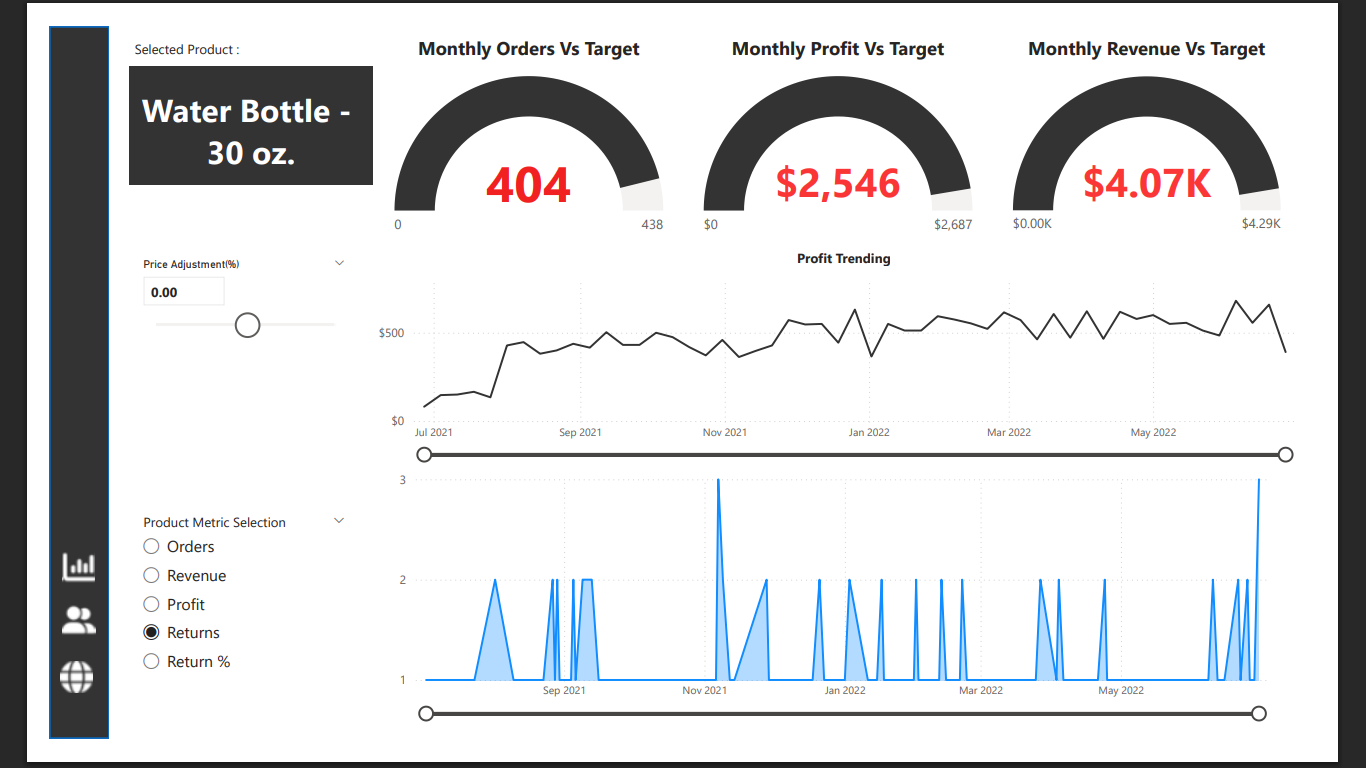

The page's visual inventory and layout, read from the dashboard file:
{"tool":"powerbi","page":{"name":"Product Detail","canvas":[1280,720],"ordinal":2},"visuals":[{"type":"shape","box":[0,0,60.5,720],"z":0},{"type":"gauge","title":"Monthly Orders Vs Target","fields":{"Y":["Measure Table.Total Orders"],"MaxValue":["Measure Table.Order Target"]},"box":[344.3,8.6,281.4,220],"z":1000},{"type":"gauge","title":"Monthly Profit Vs Target","fields":{"Y":["Measure Table.Total Profit"],"MaxValue":["Measure Table.Profit Target"]},"box":[657.1,8.6,281.4,220],"z":2000},{"type":"gauge","title":"Monthly Revenue Vs Target","fields":{"Y":["Measure Table.Total Revenue"],"MaxValue":["Measure Table.Revenue Target"]},"box":[970,8.6,281.4,220],"z":3000},{"type":"lineChart","title":"Profit Trending","fields":{"Category":["Calendar Lookup.Date hierarchy.Start of Year","Calendar Lookup.Date hierarchy.Start of Month","Calendar Lookup.Date hierarchy.Start of Week","Calendar Lookup.Date hierarchy.Date"],"Y":["Measure Table.Total Profit"]},"box":[328.3,224.6,951.8,218.9],"z":4000},{"type":"areaChart","title":"Revenue Trending","fields":{"Y":["Measure Table.Total Returns"],"Category":["Calendar Lookup.Date hierarchy.Start of Year","Calendar Lookup.Date hierarchy.Start of Month","Calendar Lookup.Date hierarchy.Start of Week","Calendar Lookup.Date hierarchy.Date"]},"box":[344.2,443.5,908.6,262.1],"z":5000},{"type":"card","fields":{"Values":["Min(Product Lookup.ProductName)"]},"box":[81.4,40,245.7,120],"z":6000},{"type":"textbox","box":[81.4,8.6,134.3,30],"z":7000},{"type":"actionButton","box":[8.6,527,44.6,40.3],"z":8000},{"type":"actionButton","box":[8.6,580.3,44.6,40.3],"z":9000},{"type":"actionButton","box":[7.2,637.9,44.6,40.3],"z":10000},{"type":"slicer","fields":{"Values":["Price Adjustment(%).Price Adjustment(%)"]},"box":[82.1,229,229,119.5],"z":11000},{"type":"slicer","fields":{"Values":["Product Metric Selection.Product Metric Selection"]},"box":[82.1,486.7,229,218.9],"z":12000}]}

Visuals, with their boxes on the page's 1280x720 design canvas (x1, y1, x2, y2). These are canvas units, not pixel positions in the 1366x768 screenshot, which may show the page scaled, cropped or inside an application window:
shape: 0 0 60 720
"Monthly Orders Vs Target" gauge: 344 9 626 229
"Monthly Profit Vs Target" gauge: 657 9 938 229
"Monthly Revenue Vs Target" gauge: 970 9 1251 229
"Profit Trending" lineChart: 328 225 1280 444
"Revenue Trending" areaChart: 344 444 1253 706
card - Min(Product Lookup.ProductName): 81 40 327 160
textbox: 81 9 216 39
actionButton: 9 527 53 567
actionButton: 9 580 53 621
actionButton: 7 638 52 678
slicer - Price Adjustment(%).Price Adjustment(%): 82 229 311 348
slicer - Product Metric Selection.Product Metric Selection: 82 487 311 706
